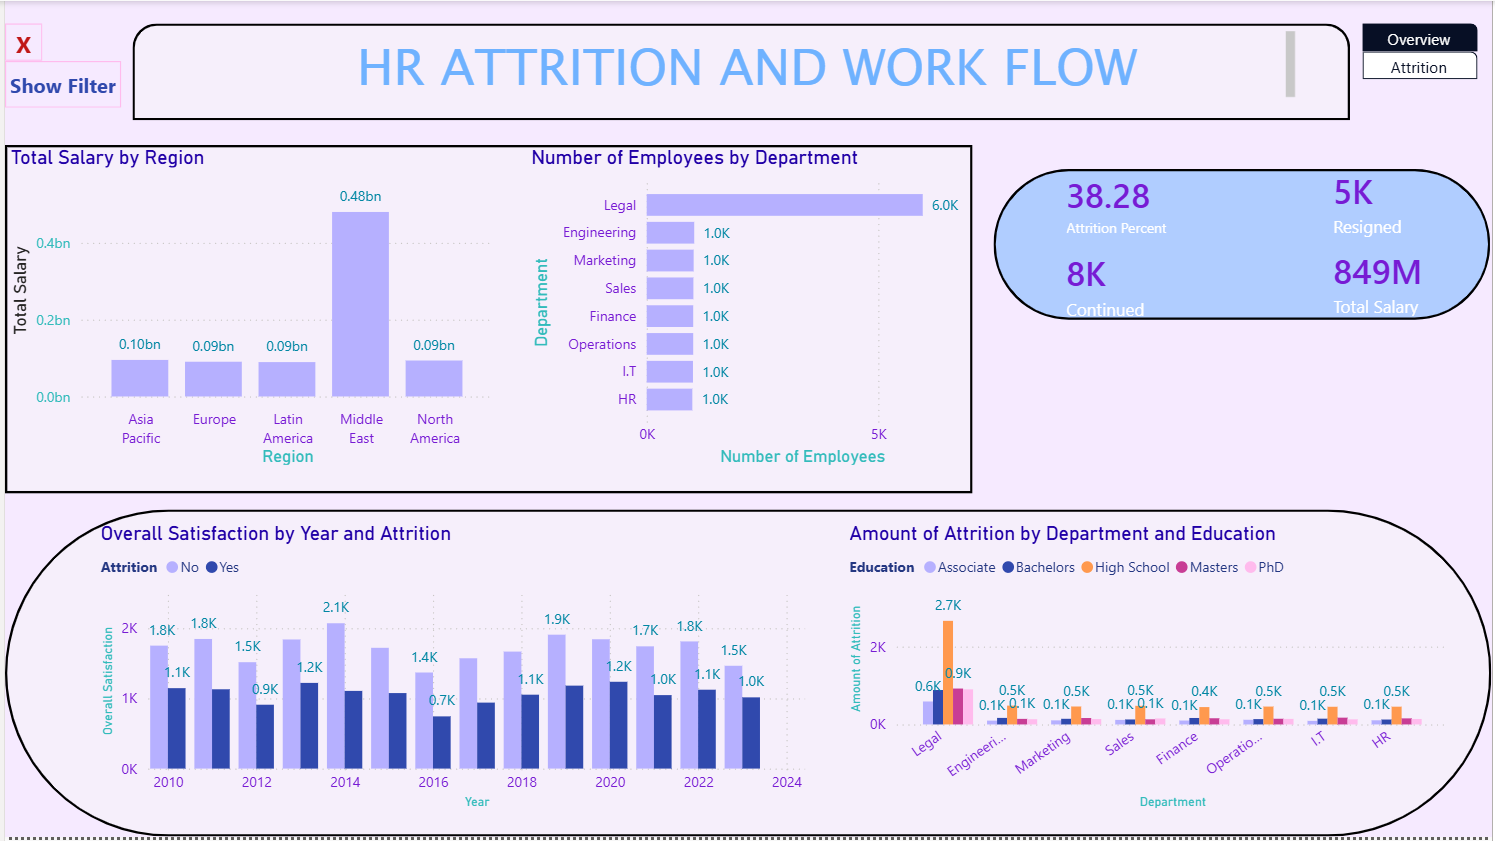

This screenshot's page, from the dashboard's own definition file:
{"tool":"powerbi","page":{"name":"Overview","canvas":[1280,720],"ordinal":0},"visuals":[{"type":"shape","title":"Panel","box":[850.9,124,428.7,299.6],"z":0,"group":"g1"},{"type":"shape","box":[0,437.6,1279.5,281.6],"z":0},{"type":"shape","box":[0,124.2,832.8,299.8],"z":1000},{"type":"slicer","title":"Month","fields":{"Values":["HR_Attrition_cleaned.Hire_Date.Variation.Date Hierarchy.Month"]},"box":[882.8,349.8,183.2,60.6],"z":1000,"group":"g1"},{"type":"shape","box":[109.7,19.4,1048.2,83.3],"z":2000},{"type":"slicer","title":"Post","fields":{"Values":["HR_Attrition_cleaned.Job_Title"]},"box":[882.4,289.6,178.4,60.4],"z":2000,"group":"g1"},{"type":"slicer","title":"Pay","fields":{"Values":["HR_Attrition_cleaned.Payment_Method"]},"box":[1069,289.6,178.4,60.4],"z":3000,"group":"g1"},{"type":"clusteredColumnChart","title":"Overall Satisfaction by Year and Attrition","fields":{"Y":["Sum(HR_Attrition_cleaned.Job_Satisfaction)"],"Series":["HR_Attrition_cleaned.Attrition"],"Category":["HR_Attrition_cleaned.Hire_Date.Variation.Date Hierarchy.Year"]},"box":[77.2,448.2,616.3,251.4],"z":3000},{"type":"slicer","title":"Gender","fields":{"Values":["HR_Attrition_cleaned.Gender"]},"box":[1066.1,346.7,181.7,71.2],"z":4000,"group":"g1"},{"type":"clusteredColumnChart","fields":{"Category":["HR_Attrition_cleaned.Department"],"Y":["CountNonNull(HR_Attrition_cleaned.Attrition)"],"Series":["HR_Attrition_cleaned.Education"]},"box":[722.3,448.2,525.4,251.4],"z":4000},{"type":"clusteredColumnChart","fields":{"Category":["HR_Attrition_cleaned.Region"],"Y":["Sum(HR_Attrition_cleaned.Salary)"]},"box":[0,124.2,425.5,280.1],"z":5000},{"type":"clusteredBarChart","fields":{"Category":["HR_Attrition_cleaned.Department"],"Y":["CountNonNull(HR_Attrition_cleaned.Employee_ID)"]},"box":[448.2,124.2,384.6,280.1],"z":6000},{"type":"group","id":"g1","title":"Filter1","box":[850.9,124,428.7,299.6],"z":6500},{"type":"shape","box":[851.4,144.6,427.6,129.8],"z":7000},{"type":"cardVisual","fields":{"Data":["HR_Attrition_cleaned.PERC"]},"box":[884.8,126,200.2,97.6],"z":8000},{"type":"cardVisual","fields":{"Data":["HR_Attrition_cleaned.Leave"]},"box":[1114.3,124,164,99.4],"z":9000},{"type":"cardVisual","fields":{"Data":["HR_Attrition_cleaned.D_Leave"]},"box":[884.8,200.2,201.4,89],"z":10000},{"type":"cardVisual","fields":{"Data":["Sum(HR_Attrition_cleaned.Salary)"]},"box":[1114.3,196.3,164,93],"z":11000},{"type":"textbox","box":[169.6,21.2,946.4,71.2],"z":12000},{"type":"pageNavigator","box":[1168.9,19.4,100,50],"z":13000},{"type":"actionButton","box":[0,19.8,32.1,32.1],"z":15000},{"type":"actionButton","box":[0,51.4,100,40.3],"z":16000}]}

Visuals, with their boxes in screenshot pixels (x1, y1, x2, y2), scaled from the page's 1280x720 canvas onto the 1495x841 screenshot:
"Panel" shape: Rect(994, 145, 1494, 495)
shape: Rect(0, 511, 1494, 840)
shape: Rect(0, 145, 973, 495)
"Month" slicer: Rect(1031, 409, 1245, 479)
shape: Rect(128, 23, 1352, 120)
"Post" slicer: Rect(1031, 338, 1239, 409)
"Pay" slicer: Rect(1249, 338, 1457, 409)
"Overall Satisfaction by Year and Attrition" clusteredColumnChart: Rect(90, 524, 810, 817)
"Gender" slicer: Rect(1245, 405, 1457, 488)
clusteredColumnChart - HR_Attrition_cleaned.Department x CountNonNull(HR_Attrition_cleaned.Attrition): Rect(844, 524, 1457, 817)
clusteredColumnChart - HR_Attrition_cleaned.Region x Sum(HR_Attrition_cleaned.Salary): Rect(0, 145, 497, 472)
clusteredBarChart - HR_Attrition_cleaned.Department x CountNonNull(HR_Attrition_cleaned.Employee_ID): Rect(523, 145, 973, 472)
"Filter1" group: Rect(994, 145, 1494, 495)
shape: Rect(994, 169, 1494, 321)
cardVisual - HR_Attrition_cleaned.PERC: Rect(1033, 147, 1267, 261)
cardVisual - HR_Attrition_cleaned.Leave: Rect(1301, 145, 1493, 261)
cardVisual - HR_Attrition_cleaned.D_Leave: Rect(1033, 234, 1269, 338)
cardVisual - Sum(HR_Attrition_cleaned.Salary): Rect(1301, 229, 1493, 338)
textbox: Rect(198, 25, 1303, 108)
pageNavigator: Rect(1365, 23, 1482, 81)
actionButton: Rect(0, 23, 37, 61)
actionButton: Rect(0, 60, 117, 107)
